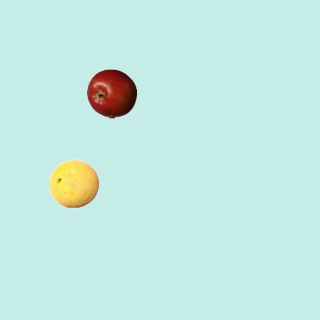Apple Braeburn: (86, 68, 136, 118)
Cantaloupe 1: (48, 158, 98, 208)
